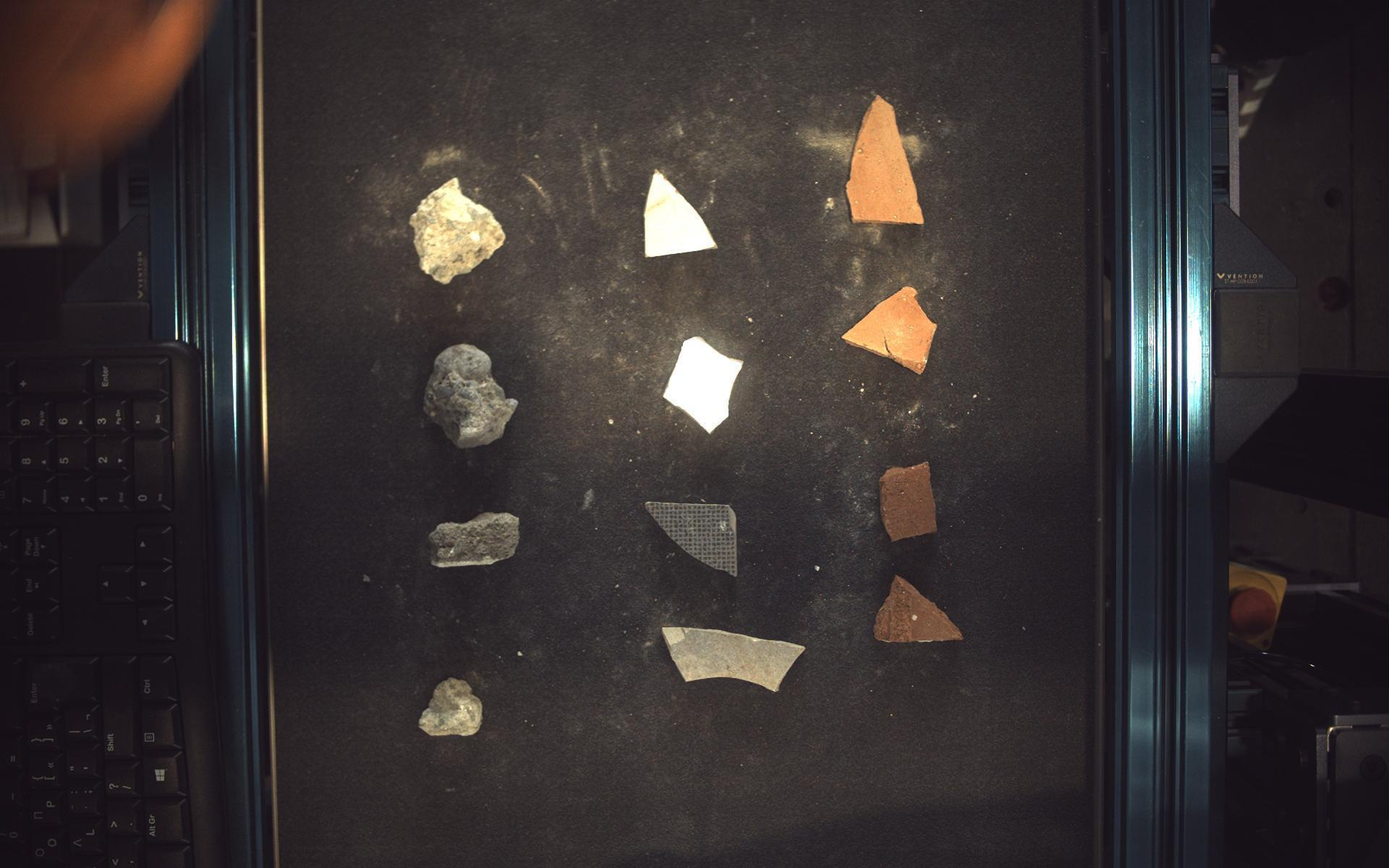brick: (848, 95, 926, 224), (844, 286, 938, 374), (875, 576, 965, 643), (882, 462, 938, 542)
concrete: (409, 177, 506, 283), (423, 344, 519, 448), (429, 513, 519, 569), (419, 679, 482, 737)
tile: (663, 628, 805, 693), (665, 336, 744, 433), (646, 503, 738, 577), (645, 170, 718, 257)
